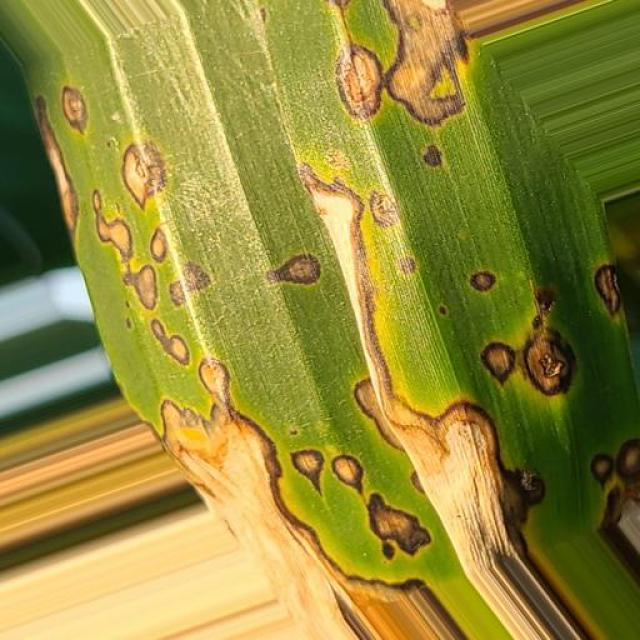Early_rust: (29, 3, 640, 586)
